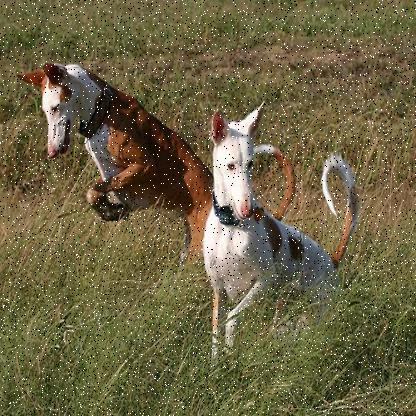dog: (202, 98, 371, 336), (16, 54, 202, 256)
